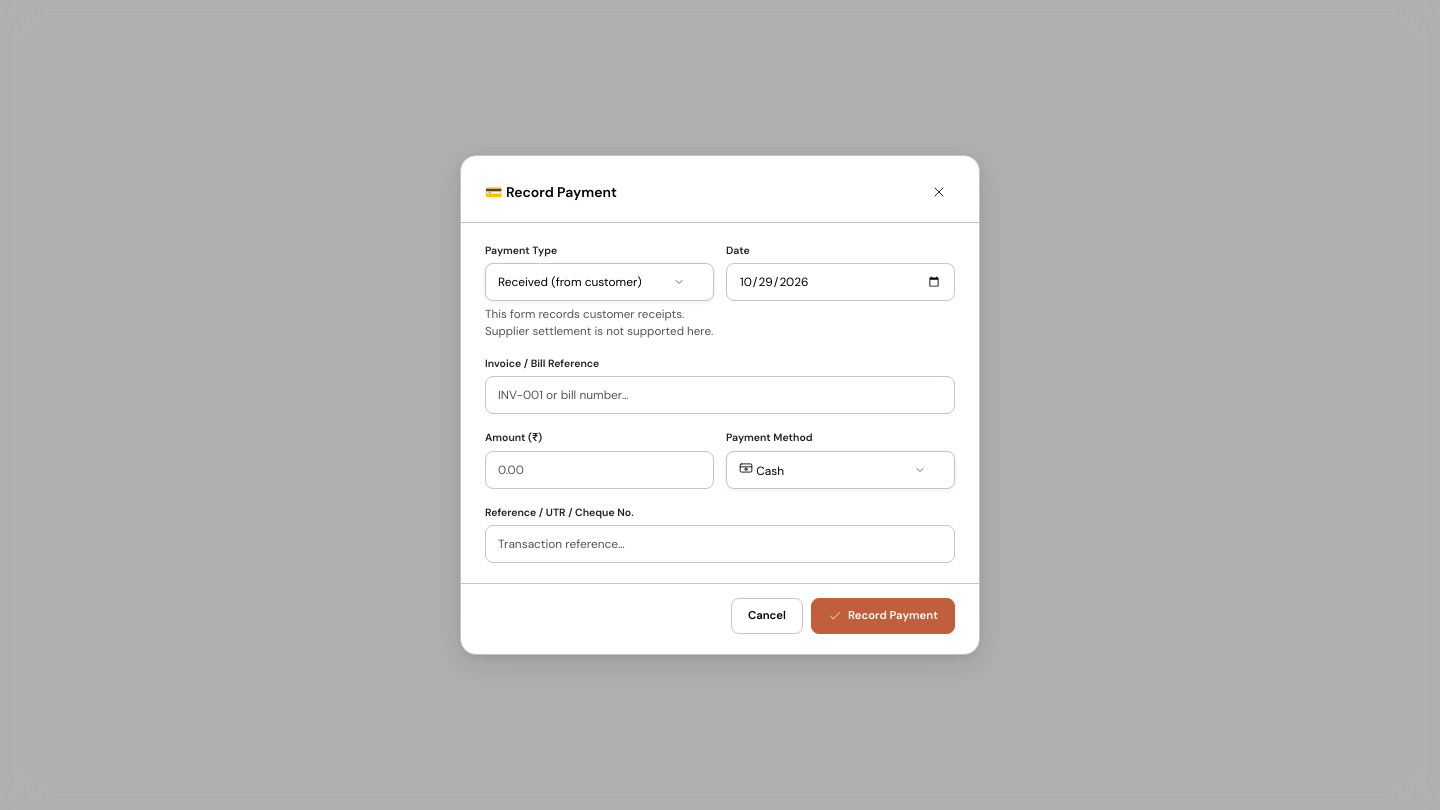
Test case: does not offer an actionable supplier-payment choice
Click the button "Received (from customer)" at (600, 282), box [485,263,714,301]
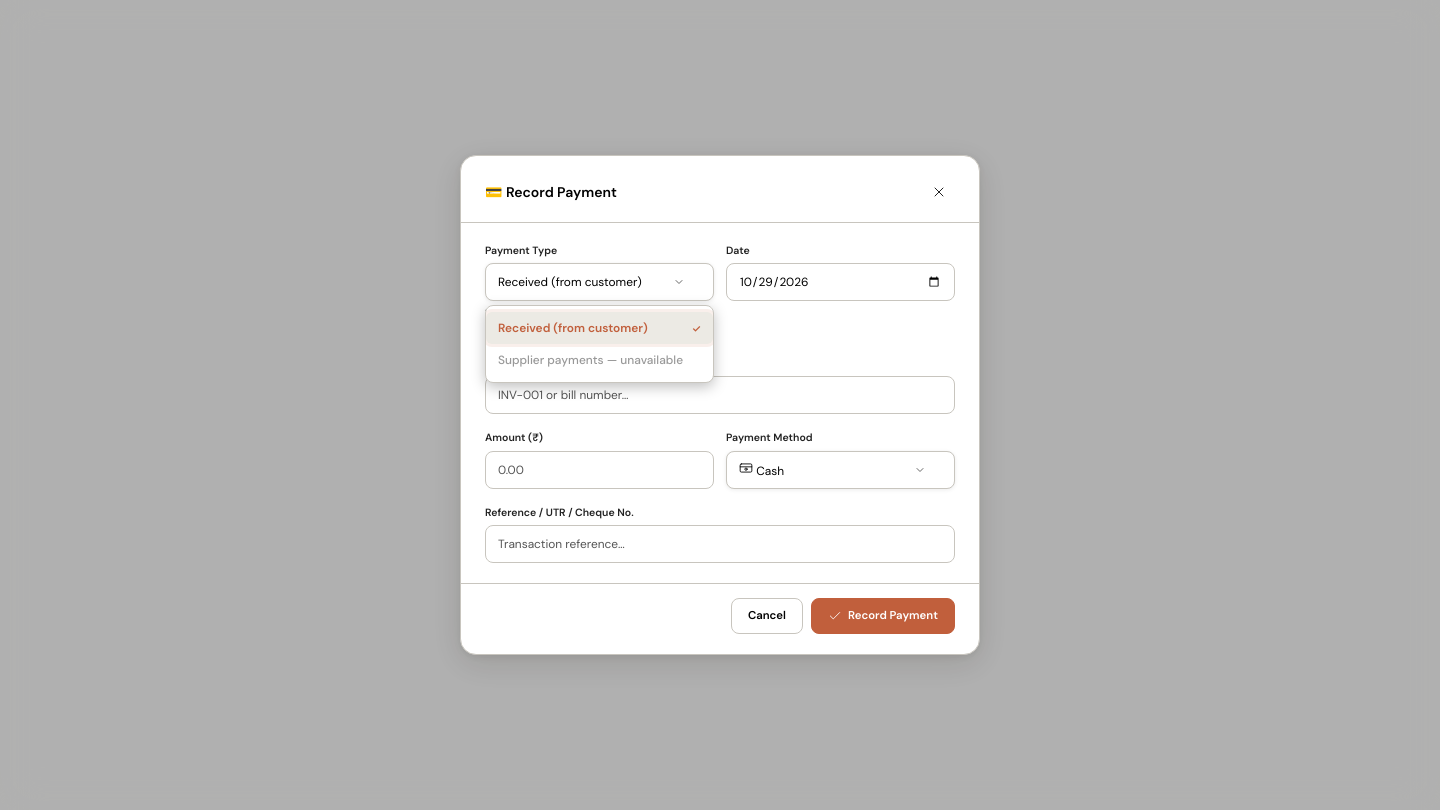
expect the text "This form records customer receipts" is shown: met, box [485,306,713,339]
expect the option "Supplier payments — unavailable" is disabled: met, box [486,344,713,376]
